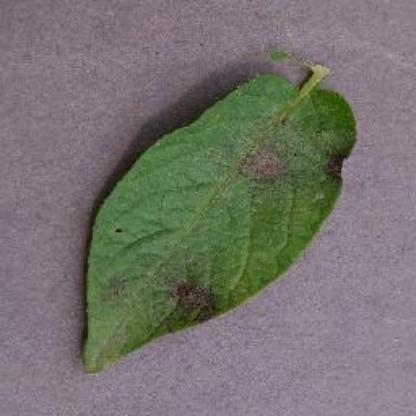Late-Blight: (65, 52, 363, 382)
